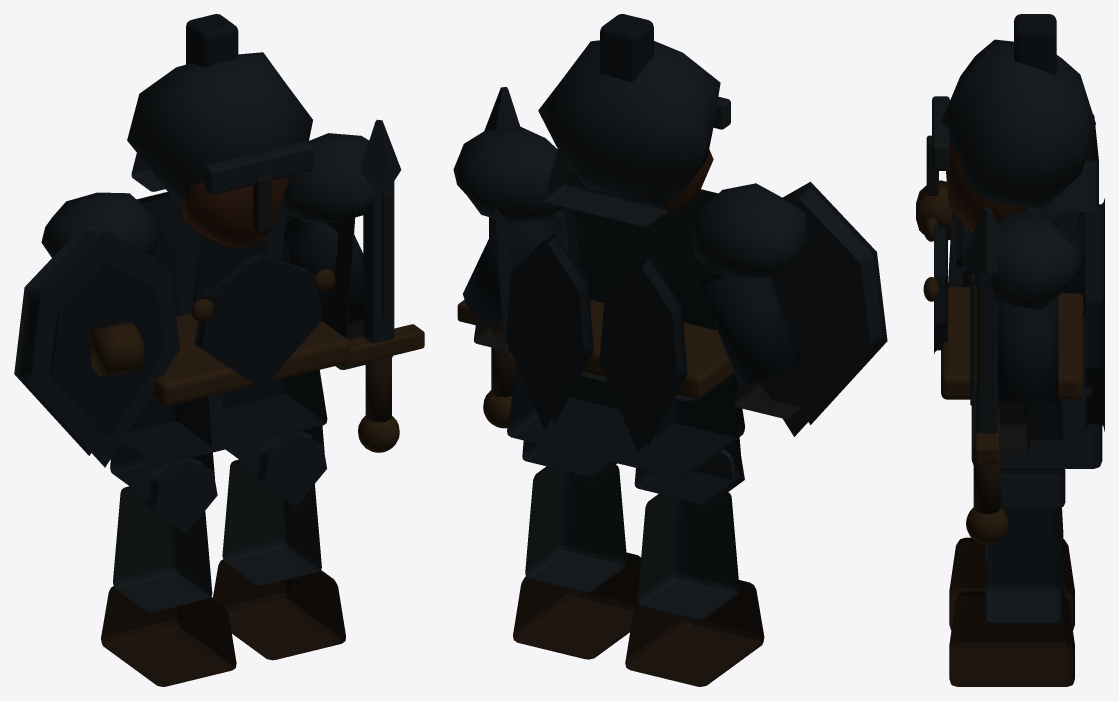
Rendered from Warrior.obj.
3 views of the same model, side by side, from view 1: azimuth 30°, elevation 25°; view 2: azimuth 150°, elevation 25°; view 3: azimuth 270°, elevation 25° (orthographic). The views are drawn at different scales.
Visible parts, largest first — view 1: rounded_war_helm, dark_kite_shield, blue_breast_tabard, shield_face, square_sabaton, square_sabaton.001, segmented_greave.001, segmented_greave, split_tabard, bronze_belt, forged_cuirass, rounded_pauldron.001 (+20 smaller); view 2: rounded_war_helm, dark_kite_shield, split_tabard, folded_cloak, folded_cloak.001, segmented_greave.001, segmented_greave, forged_cuirass, square_sabaton, rounded_pauldron, square_sabaton.001, rounded_pauldron.001 (+13 smaller); view 3: rounded_war_helm, square_sabaton.001, segmented_greave.001, rounded_pauldron.001, bronze_belt, blue_sleeve.001, split_tabard, blue_thigh.001, folded_cloak.001, short_sword_blade, square_sabaton, blue_crest (+18 smaller).
Part boxes in pixels (box(x1,y1,x2,y2)): rounded_war_helm: box(127, 52, 312, 206); dark_kite_shield: box(14, 218, 179, 467); blue_breast_tabard: box(194, 253, 322, 388); shield_face: box(50, 262, 164, 438); square_sabaton: box(101, 586, 236, 686); square_sabaton.001: box(213, 559, 345, 660); segmented_greave.001: box(222, 459, 321, 585); segmented_greave: box(113, 486, 212, 612); split_tabard: box(122, 267, 327, 465); bronze_belt: box(150, 313, 350, 406); forged_cuirass: box(137, 192, 355, 338); rounded_pauldron.001: box(282, 133, 384, 222); rounded_war_helm: box(538, 40, 720, 200); dark_kite_shield: box(759, 182, 887, 436); split_tabard: box(507, 262, 744, 477); folded_cloak: box(599, 255, 687, 453); folded_cloak.001: box(506, 232, 593, 430); segmented_greave.001: box(525, 465, 627, 592); segmented_greave: box(637, 492, 739, 619); forged_cuirass: box(494, 189, 717, 400); square_sabaton: box(625, 580, 764, 686); rounded_pauldron: box(692, 183, 807, 279); square_sabaton.001: box(513, 552, 640, 659); rounded_pauldron.001: box(453, 126, 564, 222); rounded_war_helm: box(941, 39, 1095, 208); square_sabaton.001: box(949, 591, 1074, 686); segmented_greave.001: box(985, 508, 1063, 622); rounded_pauldron.001: box(970, 213, 1083, 310); bronze_belt: box(941, 286, 1083, 399); blue_sleeve.001: box(998, 296, 1058, 402); split_tabard: box(971, 257, 1102, 468); blue_thigh.001: box(1000, 399, 1065, 507); folded_cloak.001: box(1085, 243, 1104, 431); short_sword_blade: box(976, 271, 997, 433); square_sabaton: box(949, 537, 1074, 630); blue_crest: box(1014, 14, 1056, 74).
Size of the model in its own units: 1.32 by 1.93 by 0.5305.
